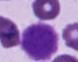L: (20, 22, 58, 61)
